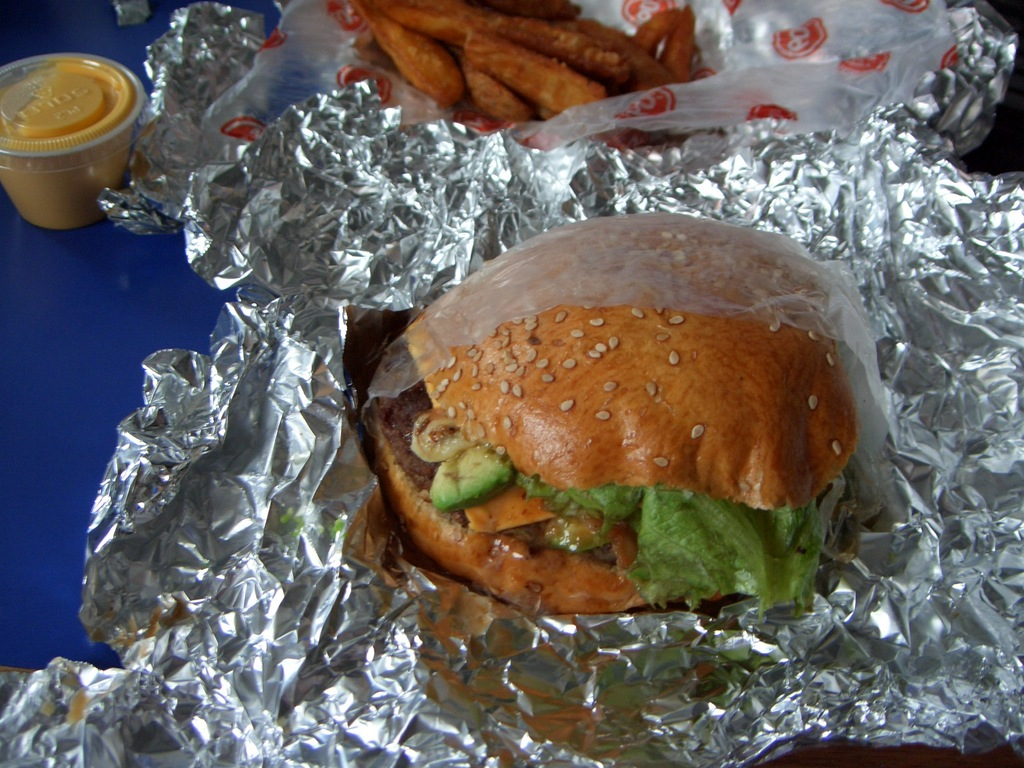Hamburger: (367, 211, 862, 612)
